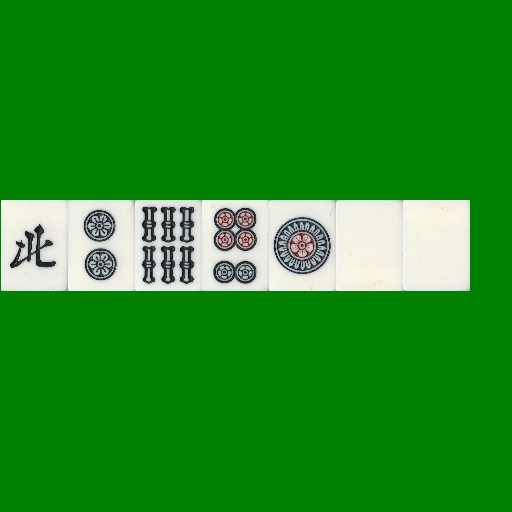1p: (269, 200, 336, 291)
2p: (68, 200, 135, 291)
6p: (202, 200, 269, 291)
6s: (135, 200, 202, 291)
north: (1, 200, 68, 291)
white: (336, 200, 403, 291), (403, 200, 470, 291)
